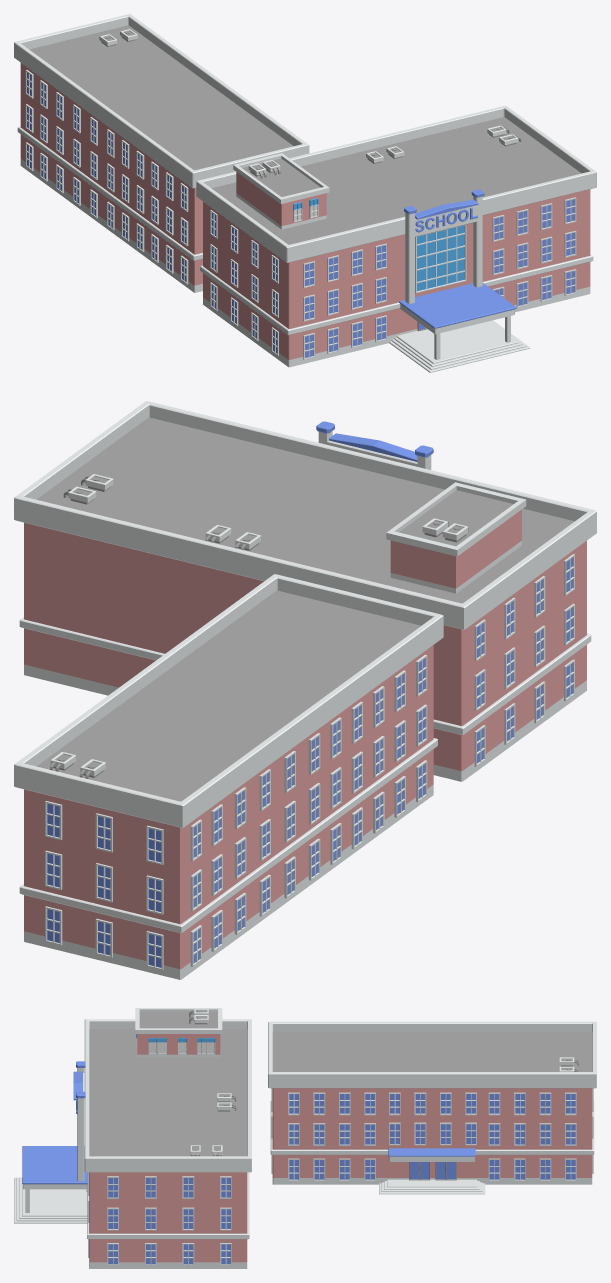
Rendered from School.fbx.
3 renders of one model, top to bottom at view 1: azimuth 30°, elevation 25°; view 2: azimuth 150°, elevation 25°; view 3: azimuth 270°, elevation 25°, orthographic. The views are drawn at different scales.
Parts seen in each view (by area): view 1: School; view 2: School; view 3: School.
Boxes of the visible parts, bbox=[...] form: School: bbox=[14, 14, 596, 372]; School: bbox=[14, 401, 596, 979]; School: bbox=[14, 1008, 596, 1268].
Bounding box in the file's own units: 3544 × 1620 × 6284.
